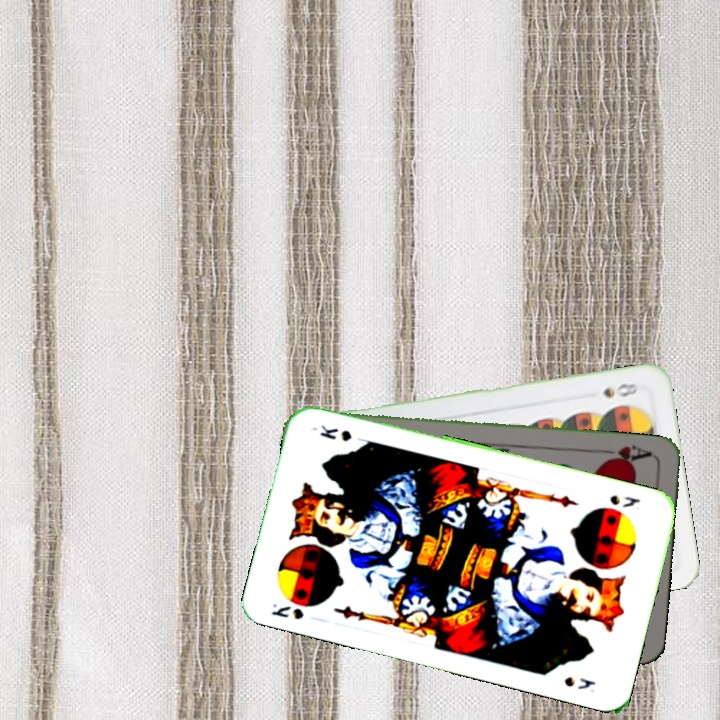HA: (597, 440, 654, 467)
S8: (599, 379, 641, 400)
SK: (267, 599, 306, 622), (605, 491, 643, 510)
